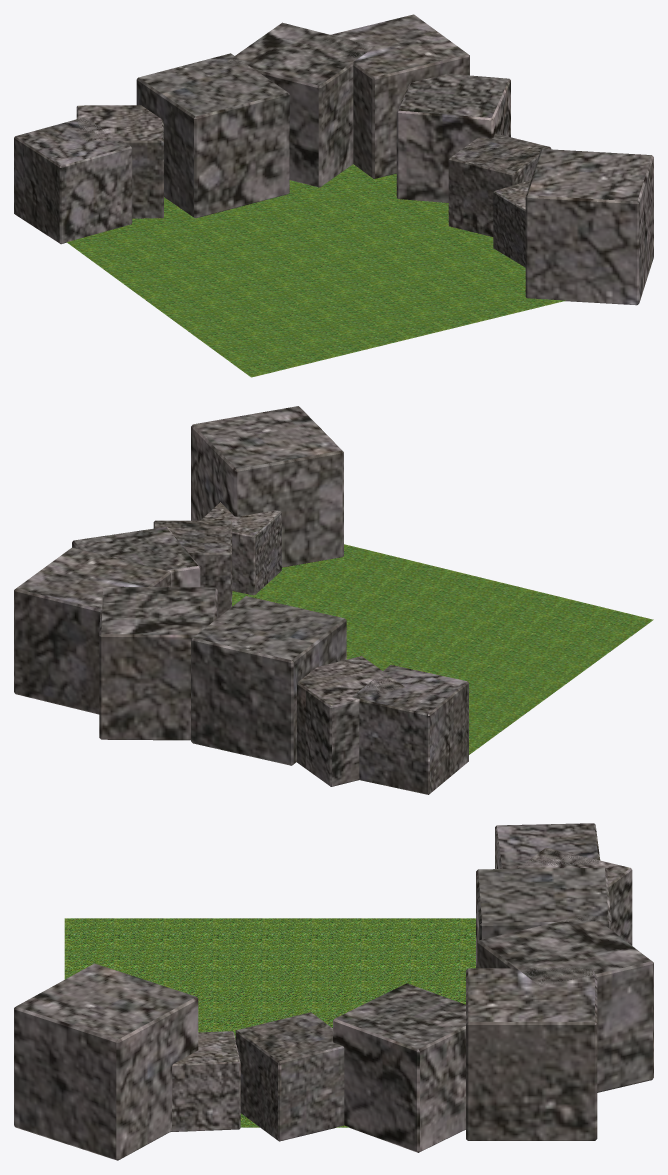
Rendered from leftkarb.FBX.
3 views of the same model, one above another, from view 1: azimuth 30°, elevation 25°; view 2: azimuth 150°, elevation 25°; view 3: azimuth 270°, elevation 25° (orthographic). The views are drawn at different scales.
Parts seen in each view (by area): view 1: leftkarb, Cube.057, Cube.059, Cube.061, Cube.058, Cube.053, Cube.054, Cube.055, Cube.060, Cube.056; view 2: leftkarb, Cube.059, Cube.057, Cube.058, Cube.053, Cube.061, Cube.060, Cube.056, Cube.054, Cube.055; view 3: leftkarb, Cube.057, Cube.053, Cube.054, Cube.058, Cube.055, Cube.059, Cube.056, Cube.061, Cube.060.
Boxes of the visible parts, x1=… form: leftkarb: x1=67, y1=164, x2=565, y2=377; Cube.057: x1=525, y1=149, x2=653, y2=305; Cube.059: x1=136, y1=53, x2=289, y2=218; Cube.061: x1=14, y1=117, x2=132, y2=244; Cube.058: x1=227, y1=22, x2=374, y2=187; Cube.053: x1=321, y1=14, x2=469, y2=178; Cube.054: x1=396, y1=73, x2=510, y2=202; Cube.055: x1=448, y1=133, x2=551, y2=236; Cube.060: x1=76, y1=105, x2=163, y2=218; Cube.056: x1=493, y1=180, x2=530, y2=267; leftkarb: x1=232, y1=544, x2=653, y2=754; Cube.059: x1=191, y1=596, x2=346, y2=765; Cube.057: x1=191, y1=406, x2=343, y2=567; Cube.058: x1=99, y1=586, x2=217, y2=740; Cube.053: x1=14, y1=547, x2=170, y2=714; Cube.061: x1=352, y1=665, x2=468, y2=794; Cube.060: x1=297, y1=656, x2=405, y2=786; Cube.056: x1=200, y1=502, x2=281, y2=595; Cube.054: x1=72, y1=527, x2=200, y2=587; Cube.055: x1=153, y1=520, x2=232, y2=617; leftkarb: x1=64, y1=918, x2=475, y2=1127; Cube.057: x1=14, y1=963, x2=198, y2=1160; Cube.053: x1=466, y1=968, x2=597, y2=1140; Cube.054: x1=333, y1=983, x2=465, y2=1152; Cube.058: x1=477, y1=915, x2=653, y2=1092; Cube.055: x1=235, y1=1012, x2=344, y2=1141; Cube.059: x1=476, y1=867, x2=610, y2=968; Cube.056: x1=170, y1=1031, x2=240, y2=1132; Cube.061: x1=495, y1=823, x2=600, y2=868; Cube.060: x1=517, y1=847, x2=632, y2=945.
Bounding box in the file's own units: 1183 × 1294 × 270.
